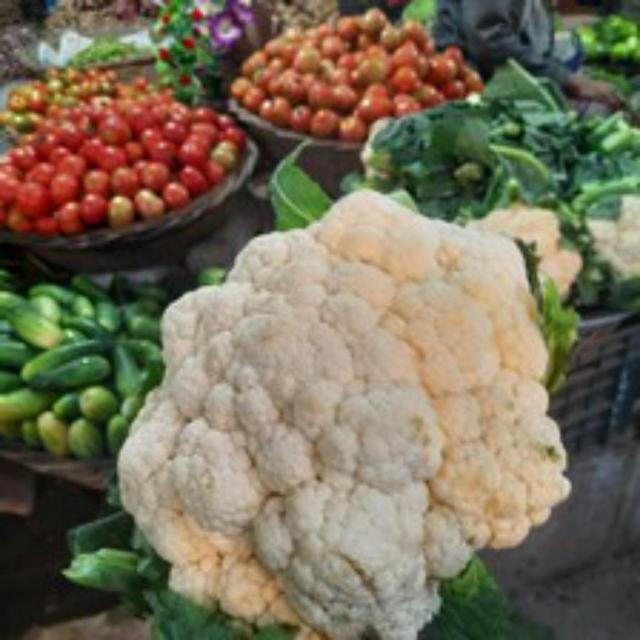cauliflower: (117, 183, 590, 634)
